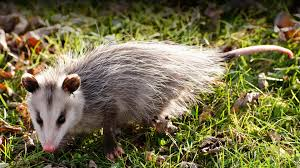opossum: (20, 42, 294, 156)
